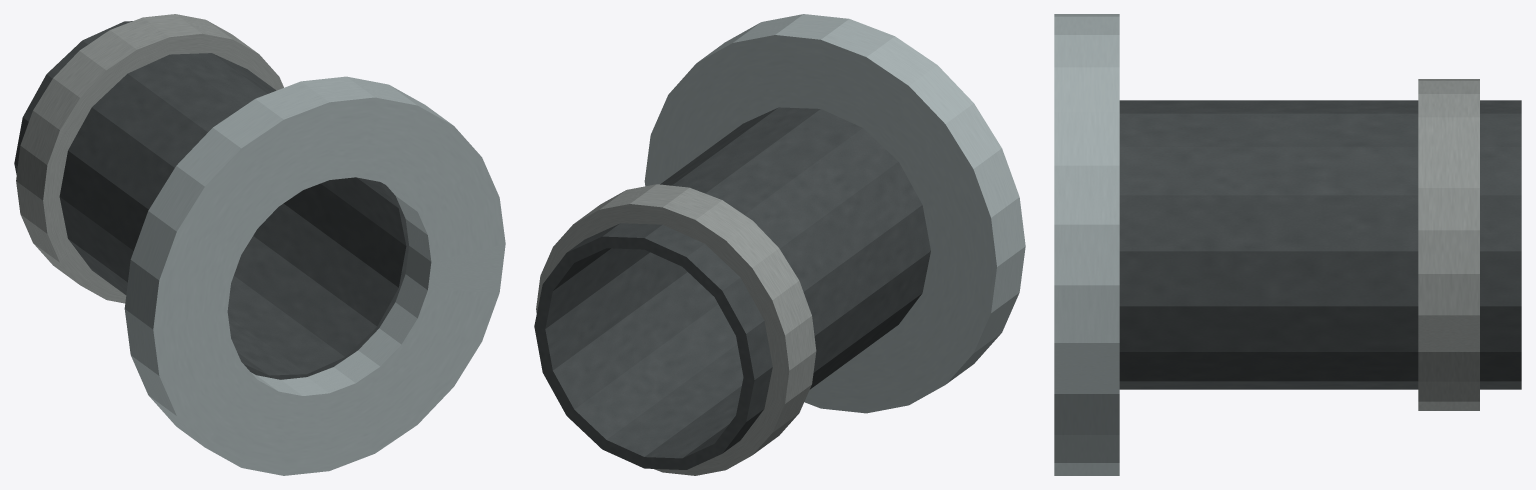
File: Gutter_Drop_Outlet.glb
3 renders of one model, left to right at view 1: azimuth 30°, elevation 25°; view 2: azimuth 150°, elevation 25°; view 3: azimuth 270°, elevation 25°, orthographic. The views are drawn at different scales.
Parts seen in each view (by area): view 1: Outlet_Slip_Flange, Outlet_Neck_75mm, Outlet_Clamp; view 2: Outlet_Neck_75mm, Outlet_Slip_Flange, Outlet_Clamp; view 3: Outlet_Neck_75mm, Outlet_Slip_Flange, Outlet_Clamp.
Boxes of the visible parts, left/top/right/bottom form: Outlet_Slip_Flange: left=124, top=76, right=505, bottom=475; Outlet_Neck_75mm: left=14, top=21, right=408, bottom=379; Outlet_Clamp: left=16, top=14, right=283, bottom=303; Outlet_Neck_75mm: left=534, top=107, right=930, bottom=469; Outlet_Slip_Flange: left=644, top=14, right=1025, bottom=413; Outlet_Clamp: left=536, top=184, right=816, bottom=475; Outlet_Neck_75mm: left=1119, top=100, right=1521, bottom=389; Outlet_Slip_Flange: left=1054, top=14, right=1119, bottom=475; Outlet_Clamp: left=1418, top=79, right=1479, bottom=410.
Size of the model in its own units: 0.128 by 0.128 by 0.129.
Materials: 3 (3 with a texture image).
